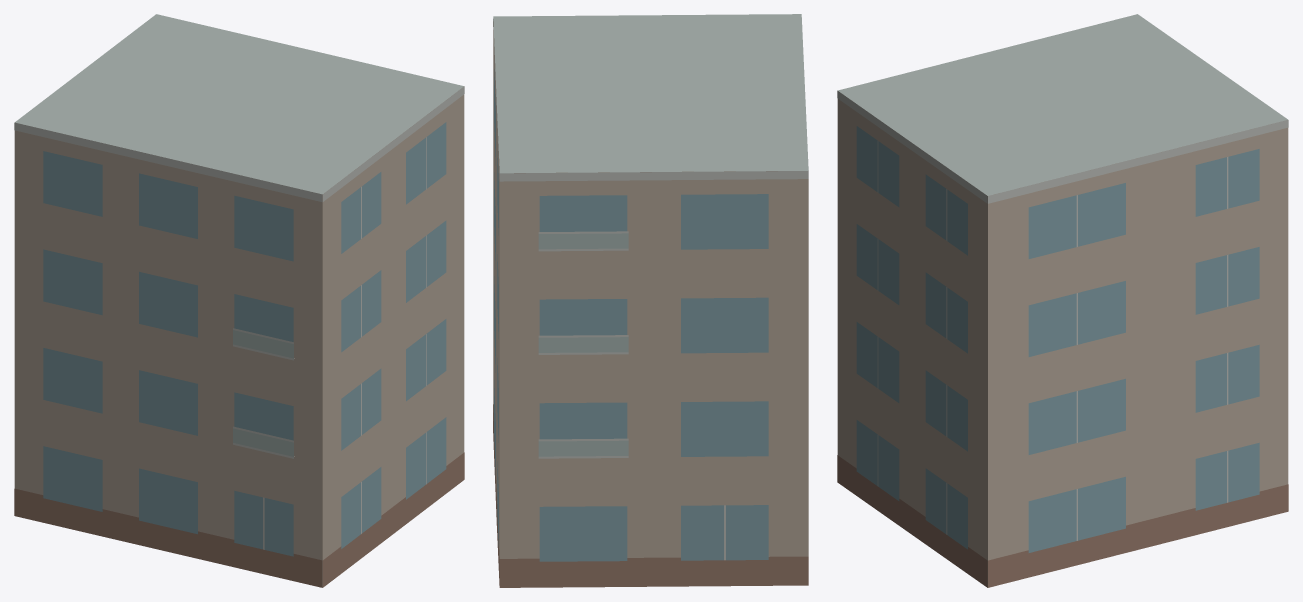
File: residential-fc6e8071-b2c7-4983-8605-8cf3a5cfbb59.glb
3 views of the same model, side by side, from view 1: azimuth 30°, elevation 25°; view 2: azimuth 150°, elevation 25°; view 3: azimuth 270°, elevation 25° (orthographic). The views are drawn at different scales.
Visible parts, largest first — view 1: residential-fc6e8071-b2c7-4983-8605-8cf3a5cfbb59.tmp; view 2: residential-fc6e8071-b2c7-4983-8605-8cf3a5cfbb59.tmp; view 3: residential-fc6e8071-b2c7-4983-8605-8cf3a5cfbb59.tmp.
Part boxes in pixels (x1,y1,x2,y2): residential-fc6e8071-b2c7-4983-8605-8cf3a5cfbb59.tmp: (14, 14, 464, 587); residential-fc6e8071-b2c7-4983-8605-8cf3a5cfbb59.tmp: (493, 14, 808, 587); residential-fc6e8071-b2c7-4983-8605-8cf3a5cfbb59.tmp: (837, 14, 1288, 587).
Bounding box in the file's own units: 12.16 × 12.2 × 12.73.
